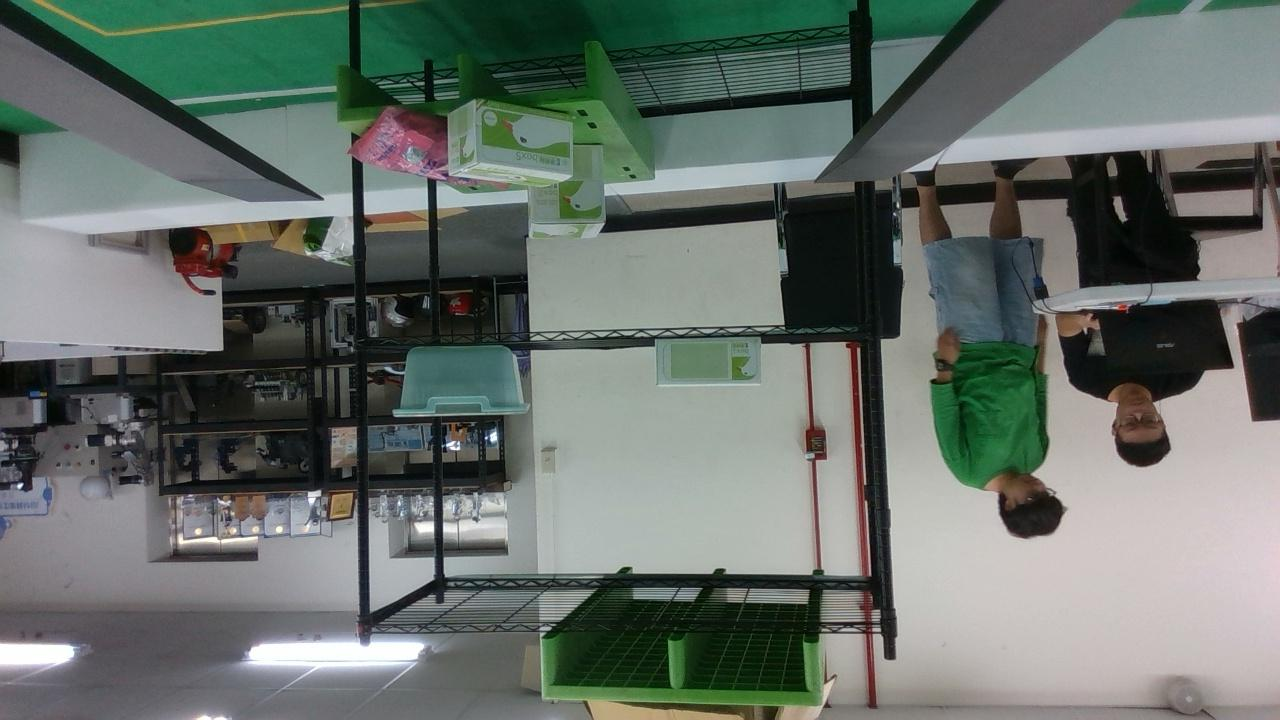Pallet: (336, 43, 599, 123), (539, 639, 822, 707)
